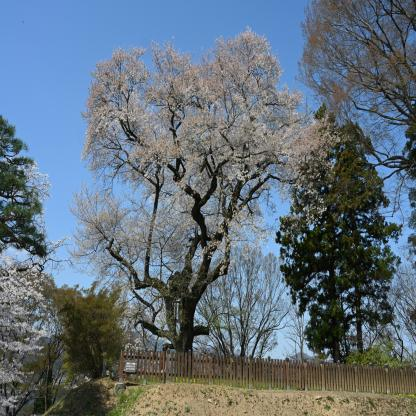EdohiganSakura: (61, 25, 344, 359)
